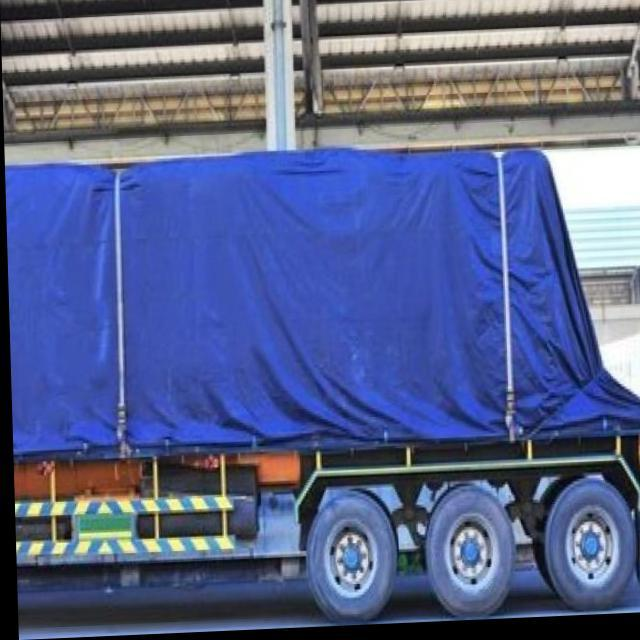covered: (7, 129, 640, 626)
